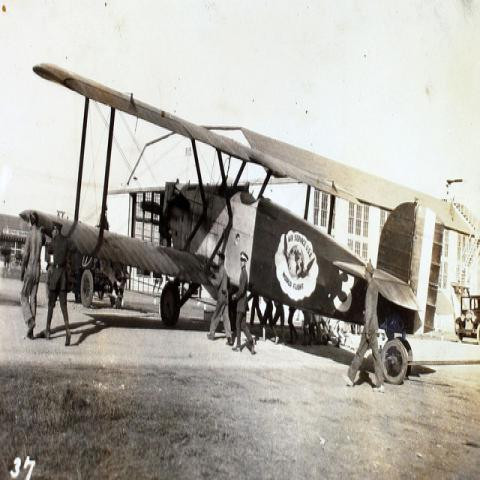car: (456, 295, 479, 344)
truck: (65, 254, 109, 308), (454, 294, 480, 345)
